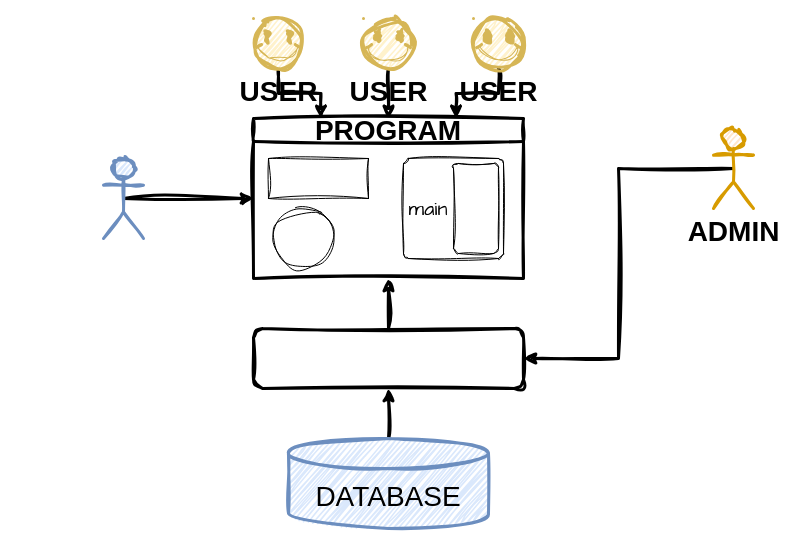
This 800x547 diagram has some shape labels left out. The shapes that lost their labels are listed below. From the top down, each one's centre as x and y in pixels, then its label:
At (x=123, y=198): "PROGRAMMER".
At (x=475, y=208): "sub".
At (x=388, y=358): "DBMS".
